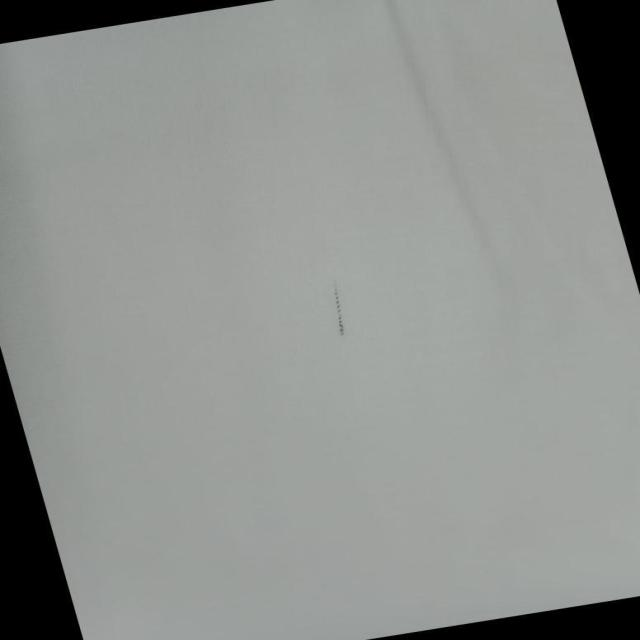contamination: (317, 272, 366, 342)
